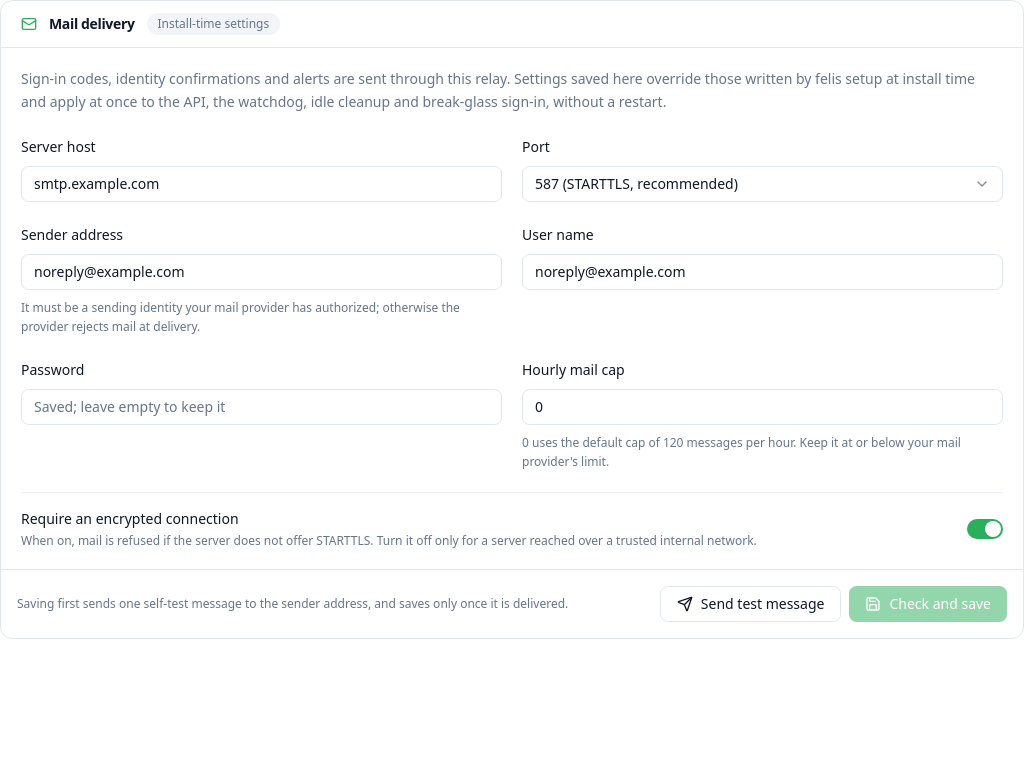
Test: mail settings › explains a relay that refused the check, in the panel's words
This screenshot has width=1024, height=768.
Expected: the field labelled "Server host" holds "smtp.example.com", [21,166,502,202]
Type "wrong" into the password field labelled "Password" at x=262, y=406, box [21,388,502,424]
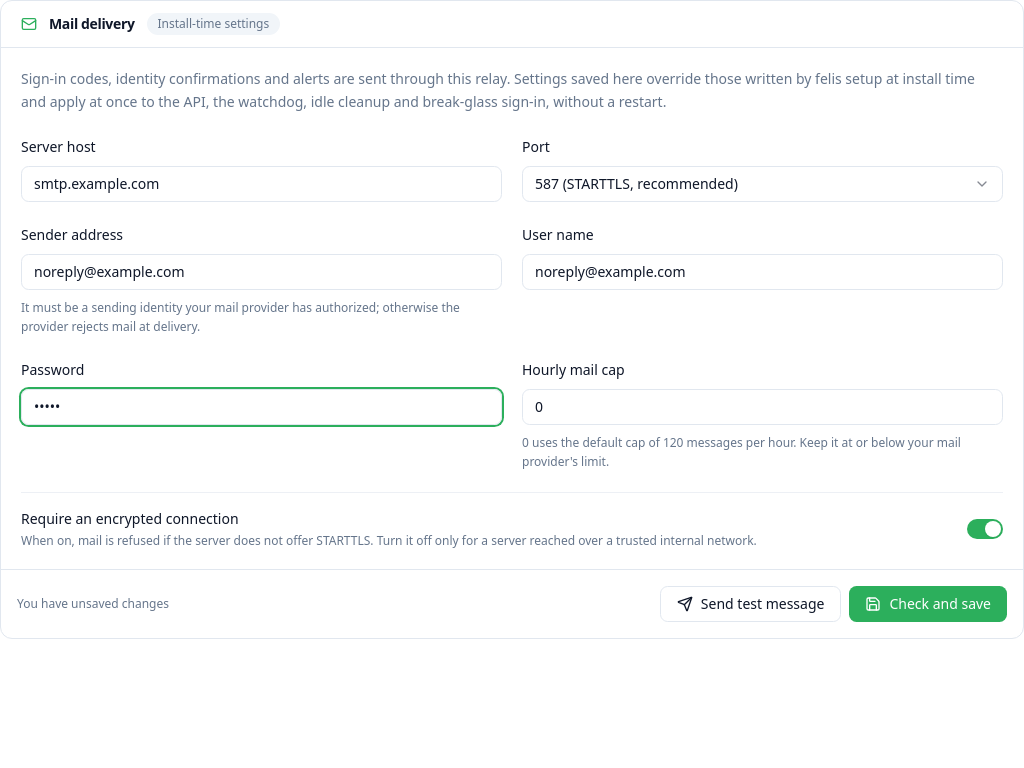
Click the button "Check and save" at x=928, y=604, box [849,586,1007,622]
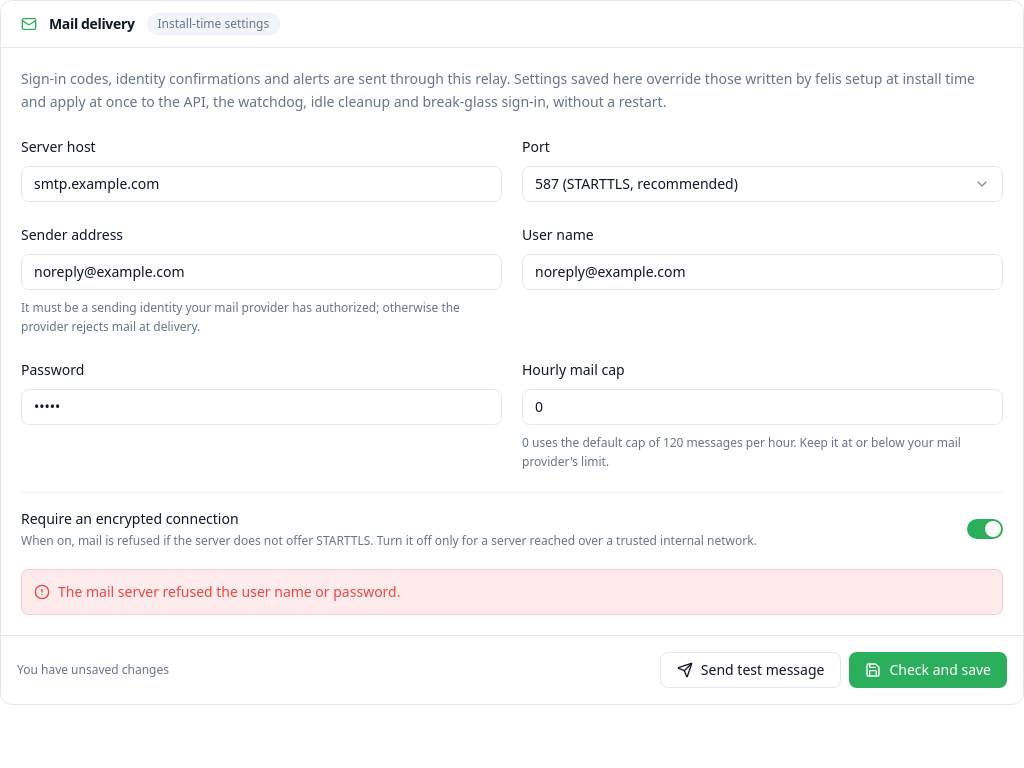
Expected: the text "Install-time settings" is shown, [146,13,280,35]
Result: the text "The mail server refused the user name or password." is shown at [58,582,400,602]
